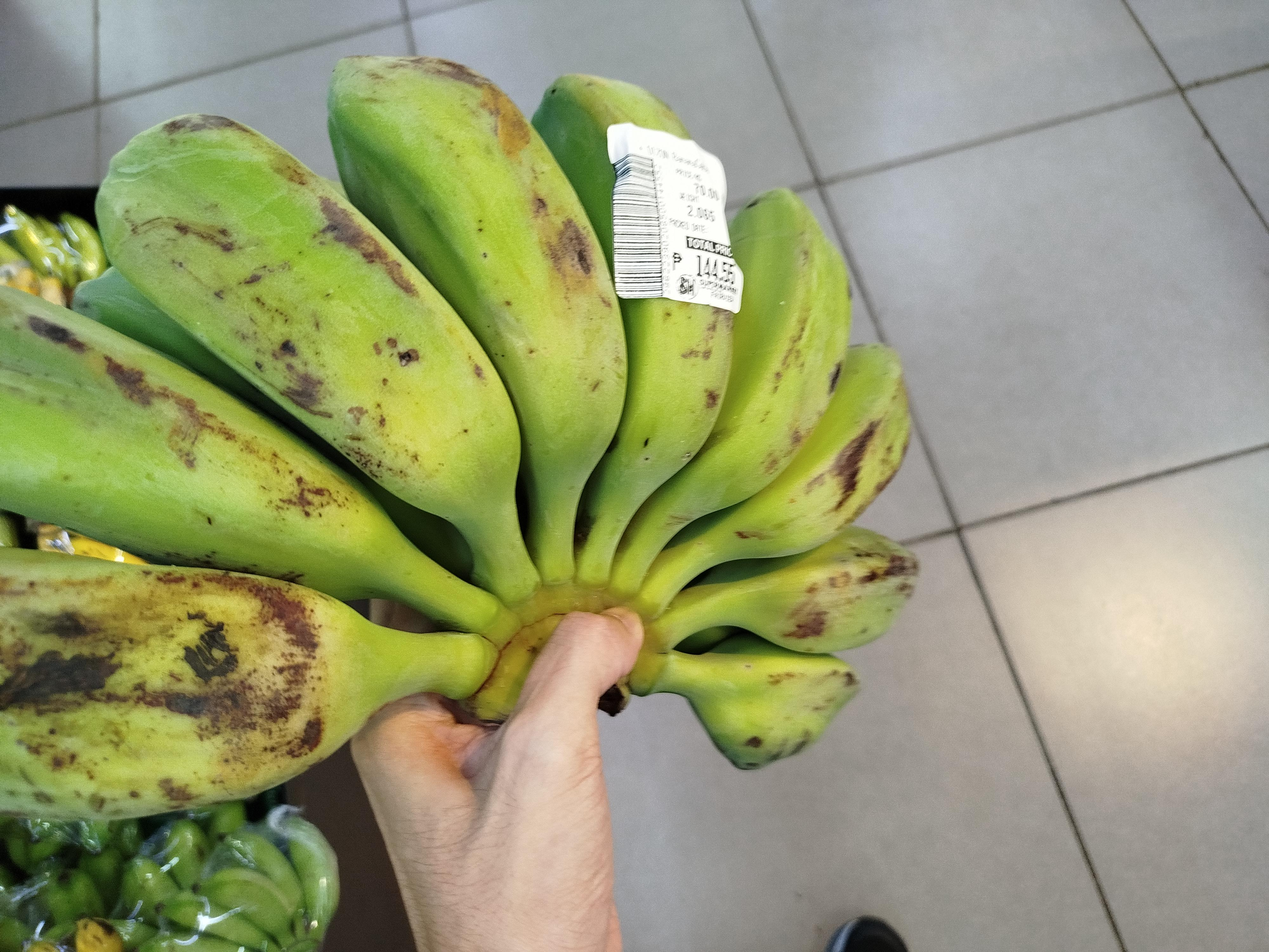underripe: (0, 57, 918, 818)
